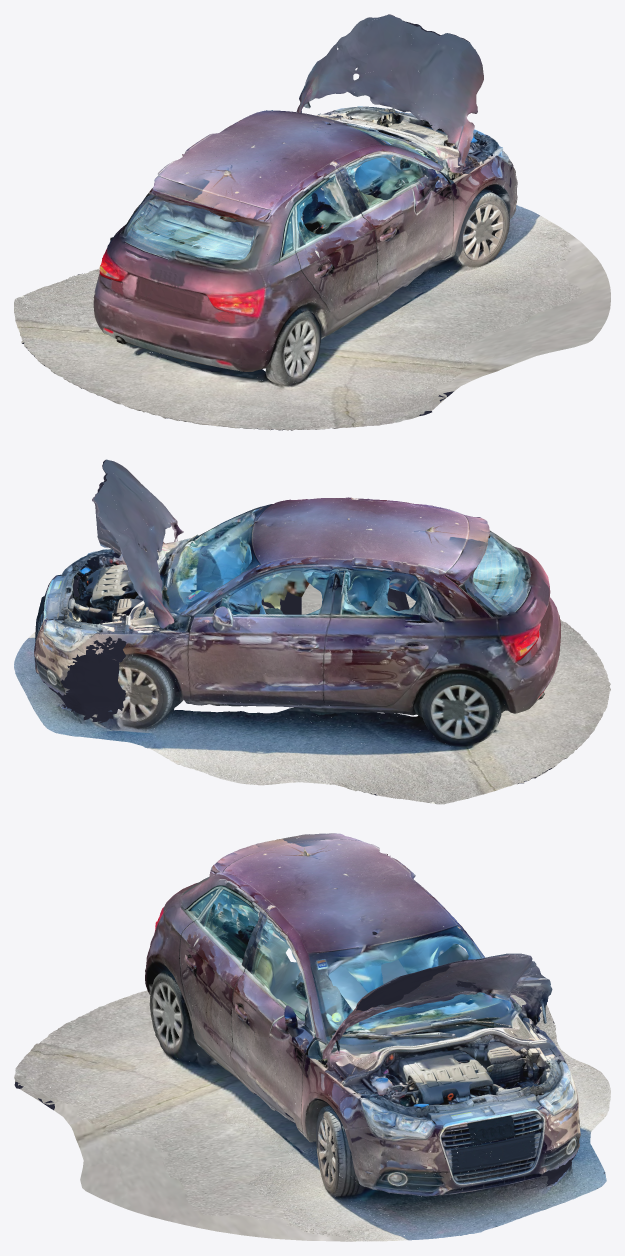
Rendered from a1-scan.glb.
3 views of the same model, one above another, from view 1: azimuth 30°, elevation 25°; view 2: azimuth 150°, elevation 25°; view 3: azimuth 270°, elevation 25° (orthographic). The views are drawn at different scales.
Parts seen in each view (by area): view 1: scan_2, scan_1, scan_0, scan_3; view 2: scan_1, scan_2, scan_0, scan_3; view 3: scan_1, scan_2, scan_0, scan_3.
Boxes of the visible parts, x1,y1,x2,y2 form: scan_2: (20,43,609,430); scan_1: (14,17,583,430); scan_0: (17,15,542,382); scan_3: (25,14,610,430); scan_1: (14,460,610,804); scan_2: (15,460,603,800); scan_0: (35,459,529,803); scan_3: (34,492,610,796); scan_1: (14,833,606,1241); scan_2: (27,833,595,1241); scan_0: (150,847,610,1223); scan_3: (18,836,606,1240).
Bounding box in the file's own units: 4.5 × 1.77 × 3.92.
5 materials, 5 textured.
